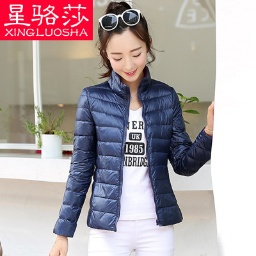face: (94, 1, 161, 90)
